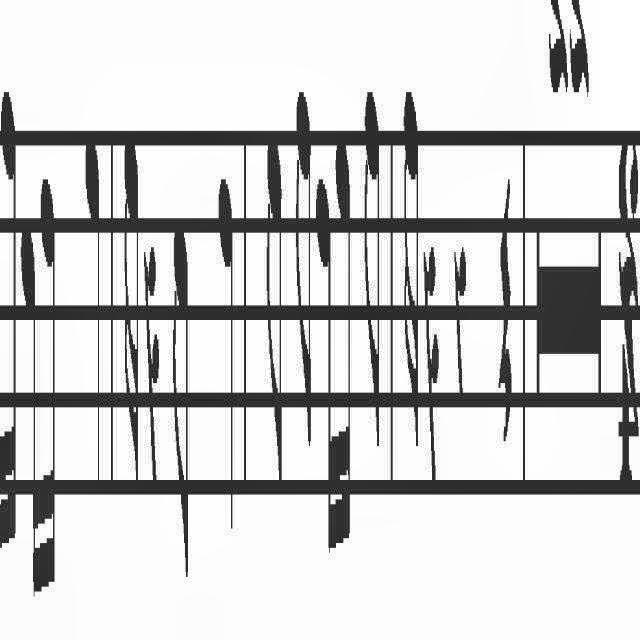Eighth-note: (168, 178, 192, 572), (292, 68, 316, 460), (264, 108, 288, 498), (362, 80, 382, 496)
Eighth-rest: (453, 213, 471, 459)
Quarter-note: (217, 139, 240, 553), (80, 127, 104, 489)
Quarter-rest: (498, 146, 514, 467)
Sixteenth-note: (40, 145, 62, 610), (18, 193, 40, 614), (0, 59, 18, 567), (335, 120, 353, 590), (121, 93, 141, 515), (401, 84, 422, 466), (315, 170, 333, 590)
